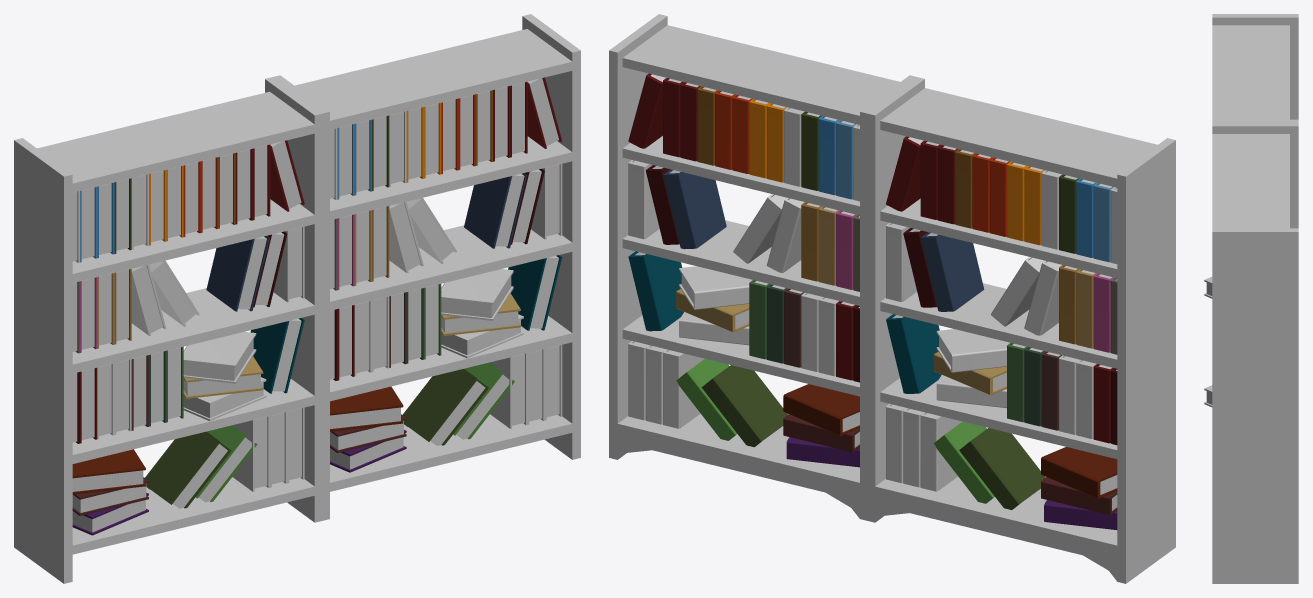
Rendered from bibllioteca.obj.
3 views of the same model, side by side, from view 1: azimuth 30°, elevation 25°; view 2: azimuth 150°, elevation 25°; view 3: azimuth 270°, elevation 25° (orthographic). The views are drawn at different scales.
Visible parts, largest first — view 1: Part36, Part31, Part82, Part35, Part86, Part33, Part84, Part39, Part90, Part83, Part32, Part34 (+98 smaller); view 2: Part36, Part31, Part82, Part35, Part86, Part90, Part39, Part33, Part84, Part34, Part85, Union53 (+80 smaller); view 3: Part86, Part31, Part82, Part36, Part87, Part35.
Boxes of the visible parts, x1,y1,x2,y2 form: Part36: (14, 138, 72, 583); Part31: (37, 91, 314, 192); Part82: (295, 29, 572, 129); Part35: (265, 77, 323, 522); Part86: (522, 14, 580, 459); Part33: (72, 288, 314, 373); Part84: (330, 225, 572, 310); Part39: (72, 477, 314, 554); Part90: (330, 414, 572, 491); Part83: (330, 136, 572, 220); Part32: (72, 199, 314, 282); Part34: (72, 379, 314, 463); Part36: (1117, 138, 1175, 583); Part31: (880, 88, 1157, 187); Part82: (622, 25, 899, 124); Part35: (866, 77, 924, 522); Part86: (609, 14, 667, 459); Part90: (617, 413, 859, 491); Part39: (875, 476, 1117, 554); Part33: (880, 283, 1117, 368); Part84: (622, 220, 859, 305); Part34: (880, 378, 1117, 458); Part85: (622, 315, 859, 396); Union53: (701, 365, 787, 447); Part86: (1212, 228, 1298, 583); Part31: (1212, 25, 1289, 119); Part82: (1212, 134, 1289, 228); Part36: (1212, 14, 1298, 119); Part87: (1212, 122, 1298, 228); Part35: (1212, 119, 1298, 123).
Size of the model in its own units: 11.95 by 9 by 2.19.
